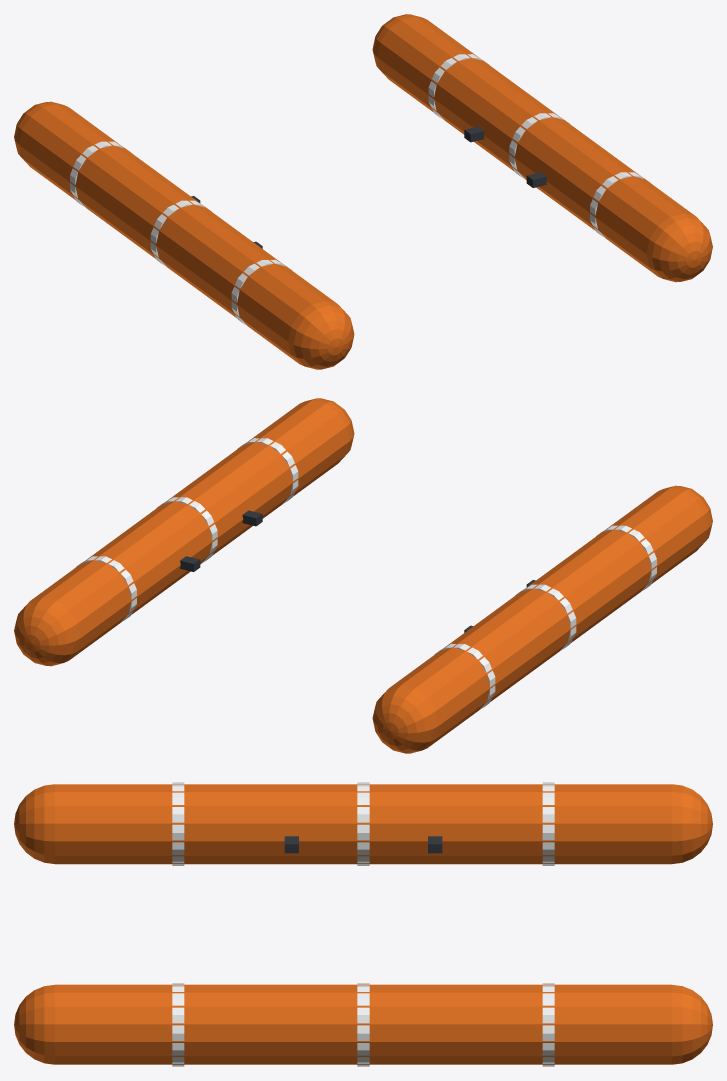
File: strada_evo.glb
3 views of the same model, one above another, from view 1: azimuth 30°, elevation 25°; view 2: azimuth 150°, elevation 25°; view 3: azimuth 270°, elevation 25° (orthographic). The views are drawn at different scales.
Visible parts, largest first — view 1: model; view 2: model; view 3: model.
Part boxes in pixels (x1,y1,x2,y2): model: (14, 14, 712, 369); model: (14, 398, 712, 753); model: (14, 782, 712, 1066).
Bounding box in the file's own units: 2.72 × 0.4079 × 3.42.
1 material, 1 textured.
